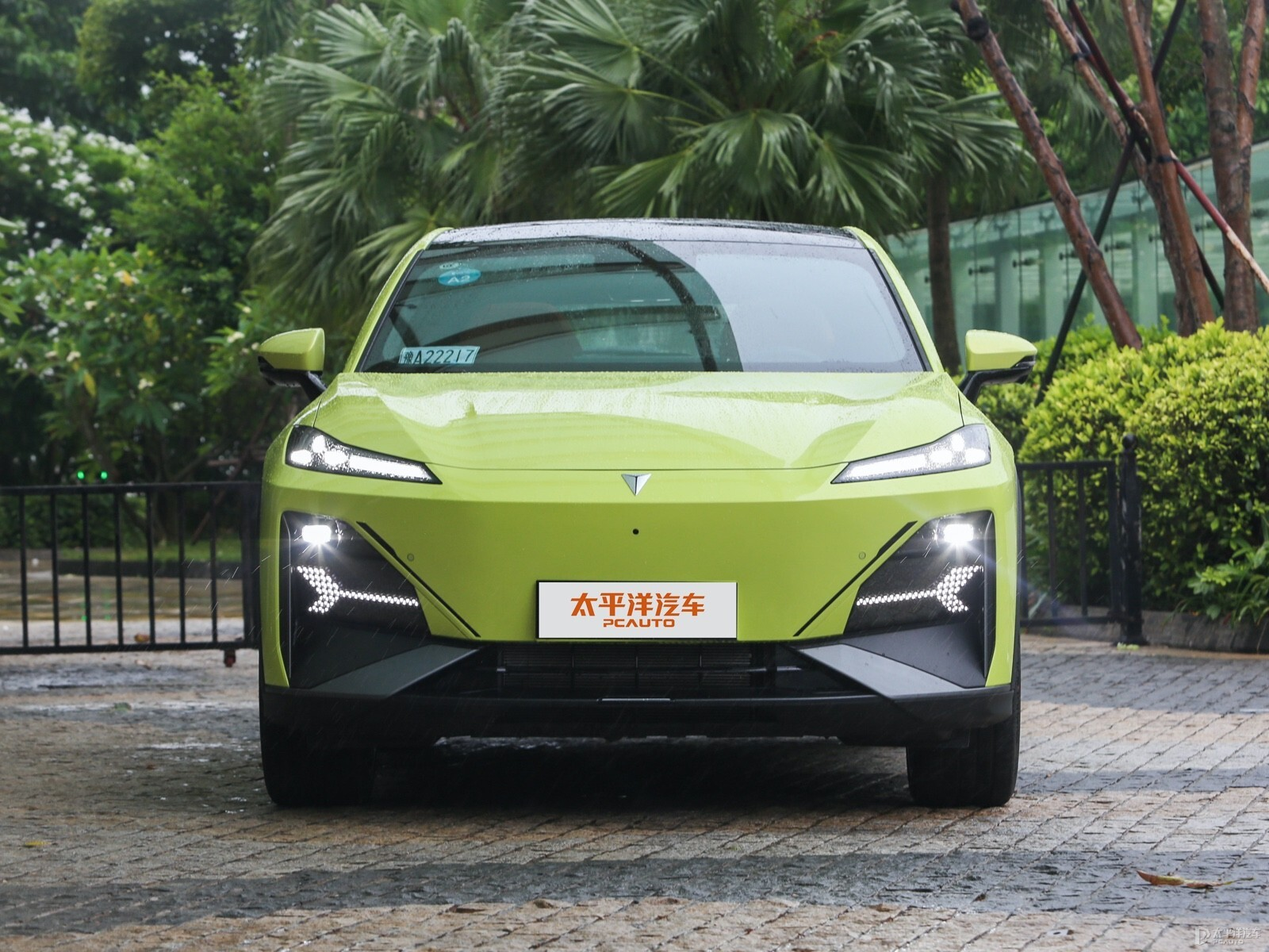Deepal: (621, 474, 651, 496)
